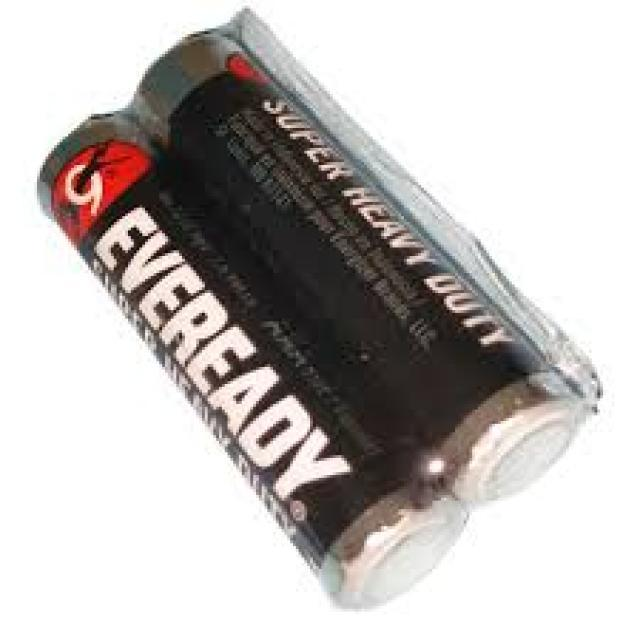Hazard: (128, 30, 585, 510), (33, 112, 470, 606)
